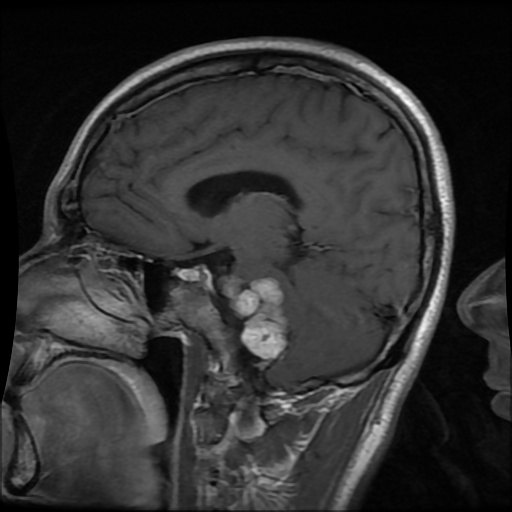meningioma: (218, 275, 289, 359)
